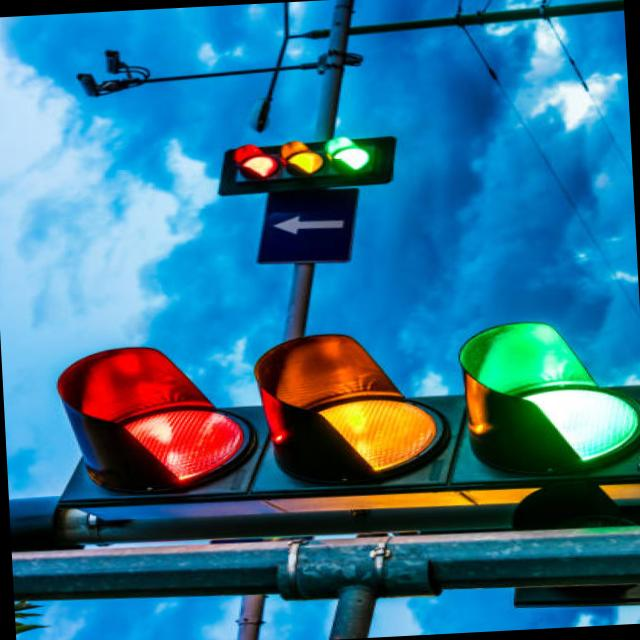green-lights: (475, 383, 640, 469), (330, 146, 370, 170)
red-lights: (99, 402, 249, 490), (240, 155, 278, 177)
yellow-lights: (271, 394, 441, 479), (284, 150, 322, 173)
